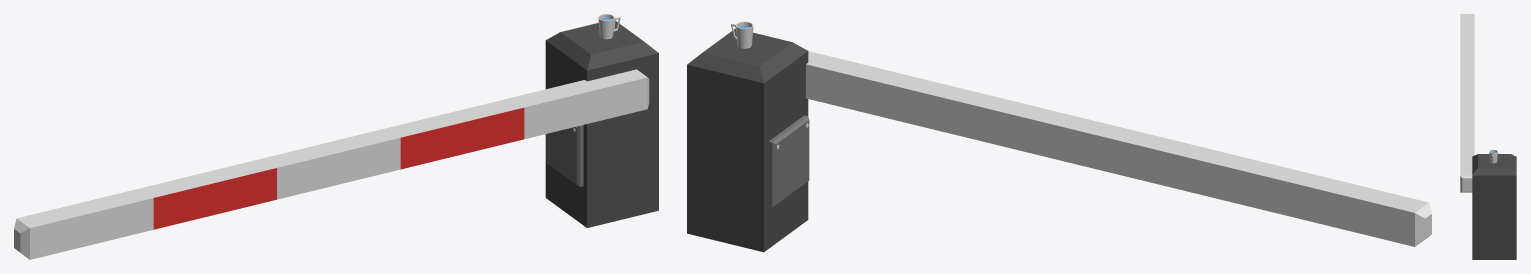
File: Barrier.fbx
The picture shows the model from 3 angles, left to right: view 1: azimuth 30°, elevation 25°; view 2: azimuth 150°, elevation 25°; view 3: azimuth 270°, elevation 25°; orthographic projection. The views are drawn at different scales.
Visible parts, largest first — view 1: Circle; view 2: Circle; view 3: Circle.
Boxes of the visible parts, x1=… form: Circle: x1=14, y1=14, x2=658, y2=259; Circle: x1=687, y1=21, x2=1431, y2=252; Circle: x1=1460, y1=14, x2=1516, y2=259.
Size of the model in its own units: 1546 by 426 by 217.
